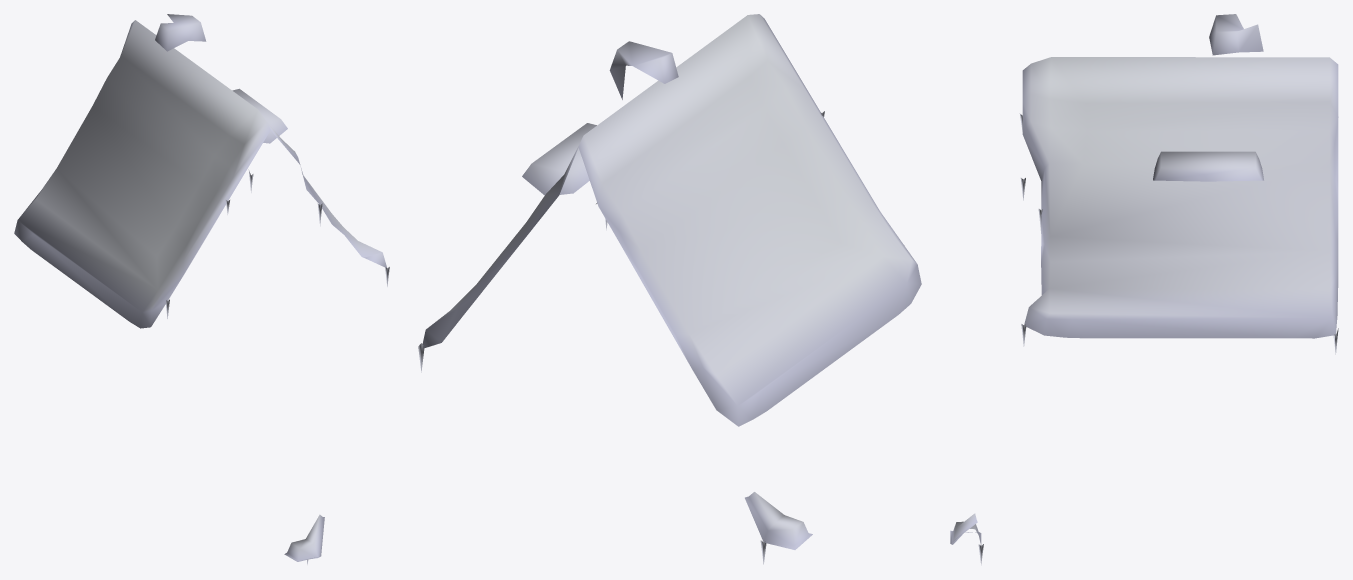
The model's file is category.nft.xs.snow.glb.
The picture shows the model from 3 angles, left to right: view 1: azimuth 30°, elevation 25°; view 2: azimuth 150°, elevation 25°; view 3: azimuth 270°, elevation 25°; orthographic projection. The views are drawn at different scales.
Visible parts, largest first — view 1: snow, tier.6, tier.4; view 2: snow, tier.4, tier.6; view 3: snow, tier.4, tier.6.
Part boxes in pixels (x1,y1,x2,y2): snow: (14,20,389,564); tier.6: (155,14,206,51); tier.4: (232,88,287,143); snow: (418,14,921,564); tier.4: (522,123,596,195); tier.6: (609,41,678,99); snow: (950,57,1338,565); tier.4: (1153,151,1263,181); tier.6: (1209,14,1263,55).
Size of the model in its own units: 2.2 by 4.09 by 2.7.
